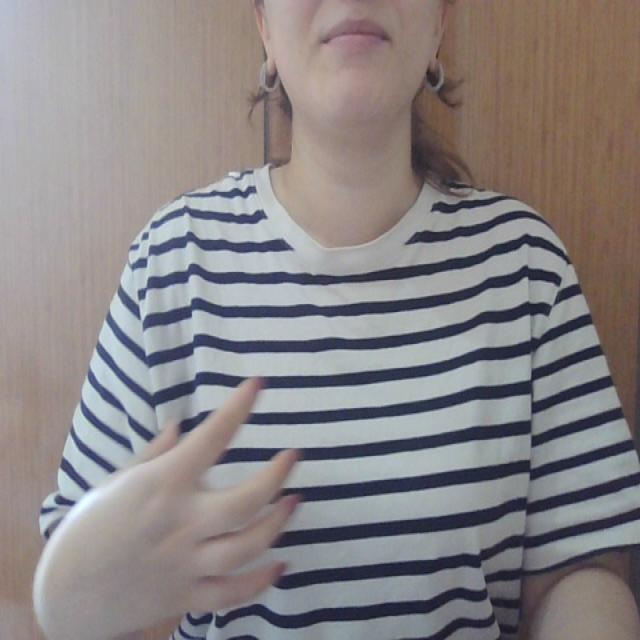Anne: (130, 376, 524, 612)
